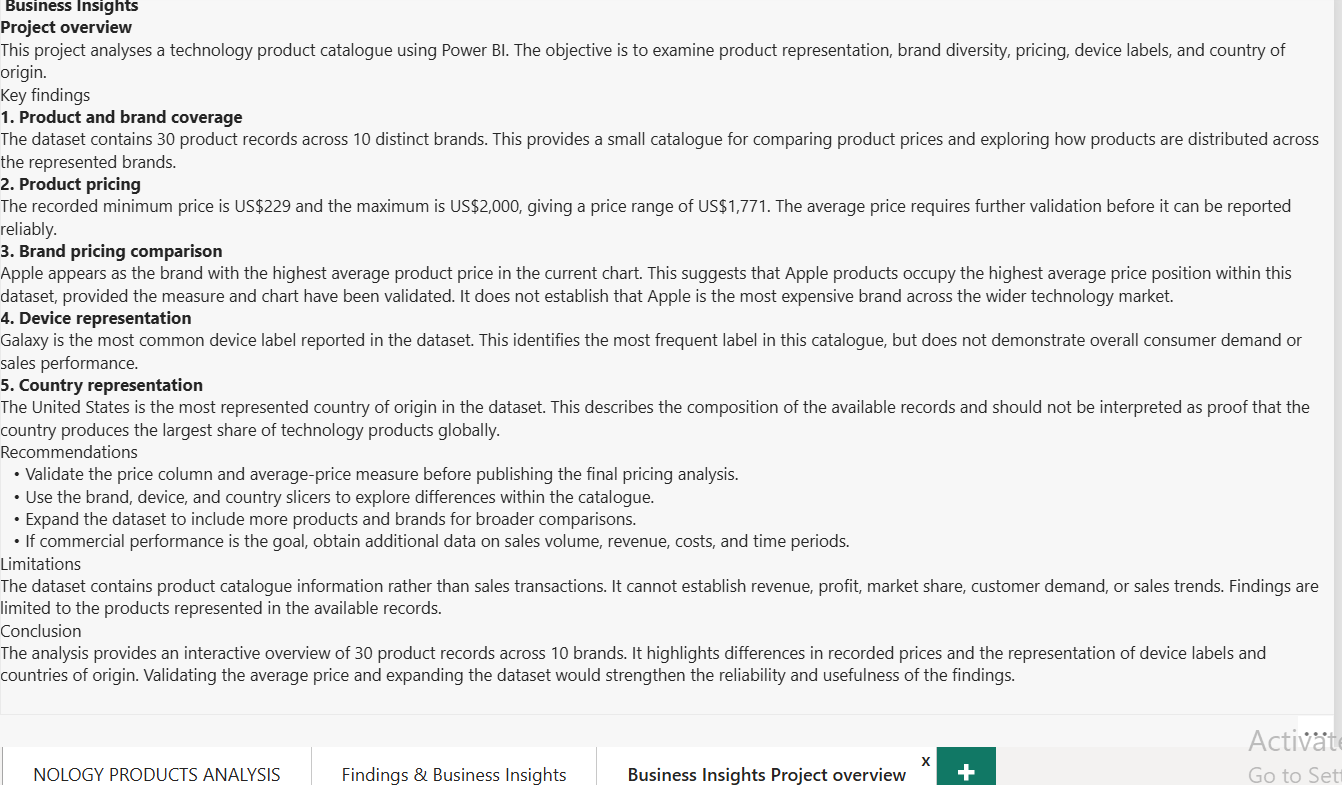

This screenshot's page, from the dashboard's own definition file:
{"tool":"powerbi","page":{"name":" Business Insights Project overview","canvas":[1920,1080],"ordinal":2},"visuals":[{"type":"textbox","box":[9.5,0,1911.1,1033.1],"z":0}]}

Visuals, with their boxes on the page's 1920x1080 design canvas (x1, y1, x2, y2). These are canvas units, not pixel positions in the 1342x785 screenshot, which may show the page scaled, cropped or inside an application window:
textbox: 10 0 1921 1033
